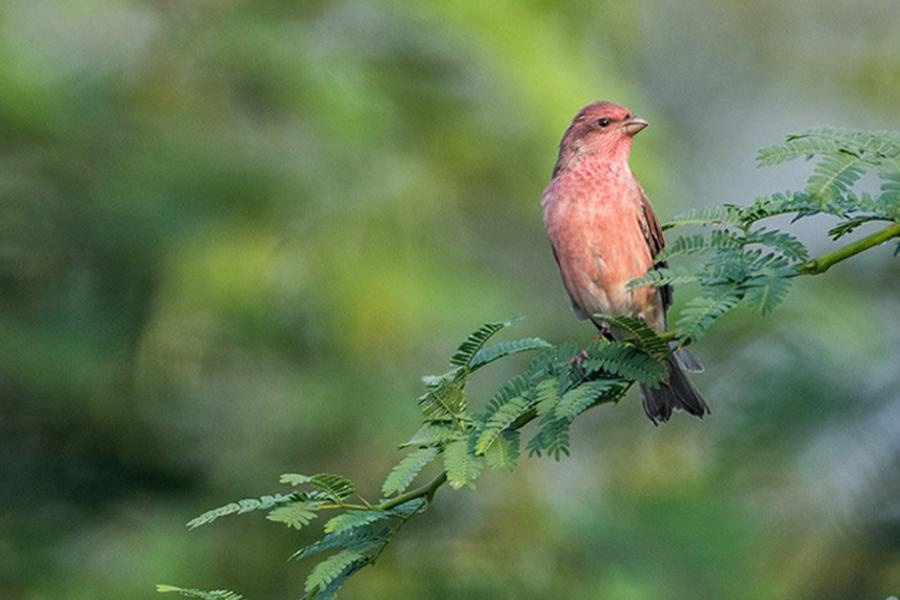rosefinch: (556, 65, 680, 407)
